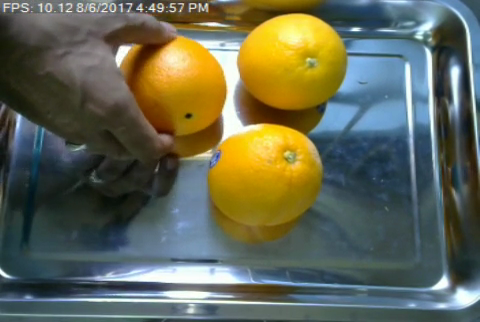Orange: (207, 123, 322, 224), (236, 11, 344, 111)
